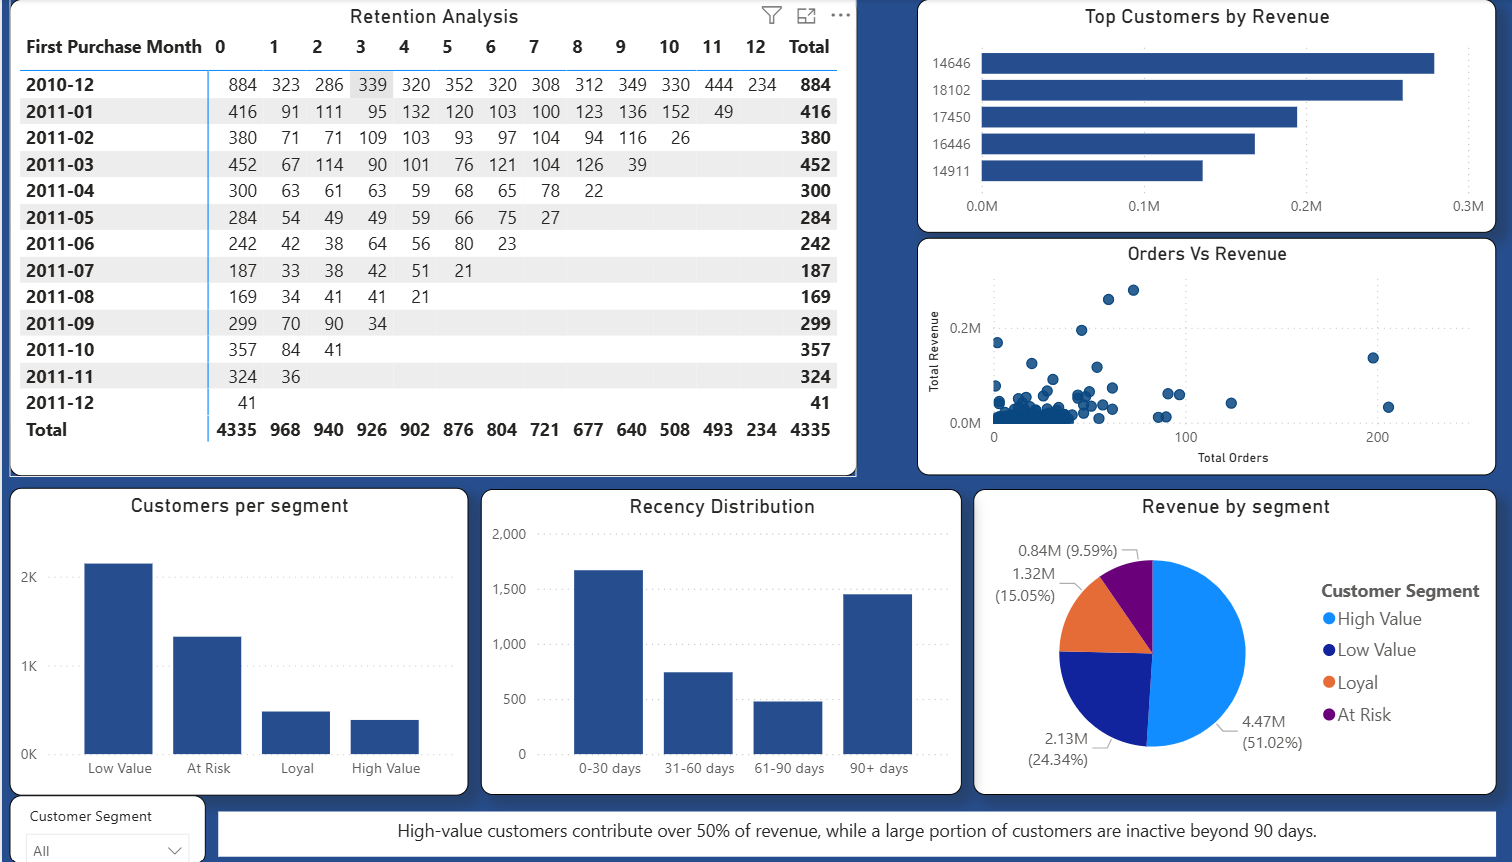

The page's visual inventory and layout, read from the dashboard file:
{"tool":"powerbi","page":{"name":"Customer Segmentation","canvas":[1280,720],"ordinal":1},"visuals":[{"type":"columnChart","title":"Customers per segment","fields":{"Category":["Customer_Summary.Customer Segment"],"Y":["Count(Customer_Summary.CustomerID)"]},"box":[0,406.4,387.6,255.7],"z":0},{"type":"pieChart","title":"Revenue by segment","fields":{"Category":["Customer_Summary.Customer Segment"],"Y":["Sum(Customer_Summary.Total Revenue)"]},"box":[807.5,407.4,435.5,254.6],"z":1000},{"type":"slicer","fields":{"Values":["Customer_Summary.Customer Segment"]},"box":[0,662,169.4,58.2],"z":2000},{"type":"clusteredBarChart","title":"Top Customers by Revenue","fields":{"Category":["Customer_Summary.CustomerID"],"Y":["Sum(Customer_Summary.Total Revenue)"]},"box":[760.5,0,481.4,194.2],"z":3000},{"type":"pivotTable","title":"Retention Analysis","fields":{"Rows":["Fact_Transactions.First Purchase Month"],"Columns":["Fact_Transactions.Cohort Index"],"Values":["Count(Fact_Transactions.CustomerID)"]},"box":[0,0,704.6,397],"z":4000},{"type":"clusteredColumnChart","title":"Recency Distribution","fields":{"Category":["Customer_Summary.Recency Bucket"],"Y":["Count(Customer_Summary.CustomerID)"]},"box":[398,407.4,400.1,254.6],"z":5000},{"type":"scatterChart","title":"Orders Vs Revenue","fields":{"X":["Customer_Summary.Total Orders"],"Y":["Customer_Summary.Total Revenue"]},"box":[760.5,198.8,481.4,197.7],"z":6000},{"type":"textbox","box":[180.1,682.4,1062.2,38],"z":7000}]}

Visuals, with their boxes in screenshot pixels (x1, y1, x2, y2), scaled from the page's 1280x720 canvas onto the 1512x862 screenshot:
"Customers per segment" columnChart: [0, 487, 458, 793]
"Revenue by segment" pieChart: [954, 488, 1468, 793]
slicer - Customer_Summary.Customer Segment: [0, 793, 200, 861]
"Top Customers by Revenue" clusteredBarChart: [898, 0, 1467, 233]
"Retention Analysis" pivotTable: [0, 0, 832, 475]
"Recency Distribution" clusteredColumnChart: [470, 488, 943, 793]
"Orders Vs Revenue" scatterChart: [898, 238, 1467, 475]
textbox: [213, 817, 1467, 861]
